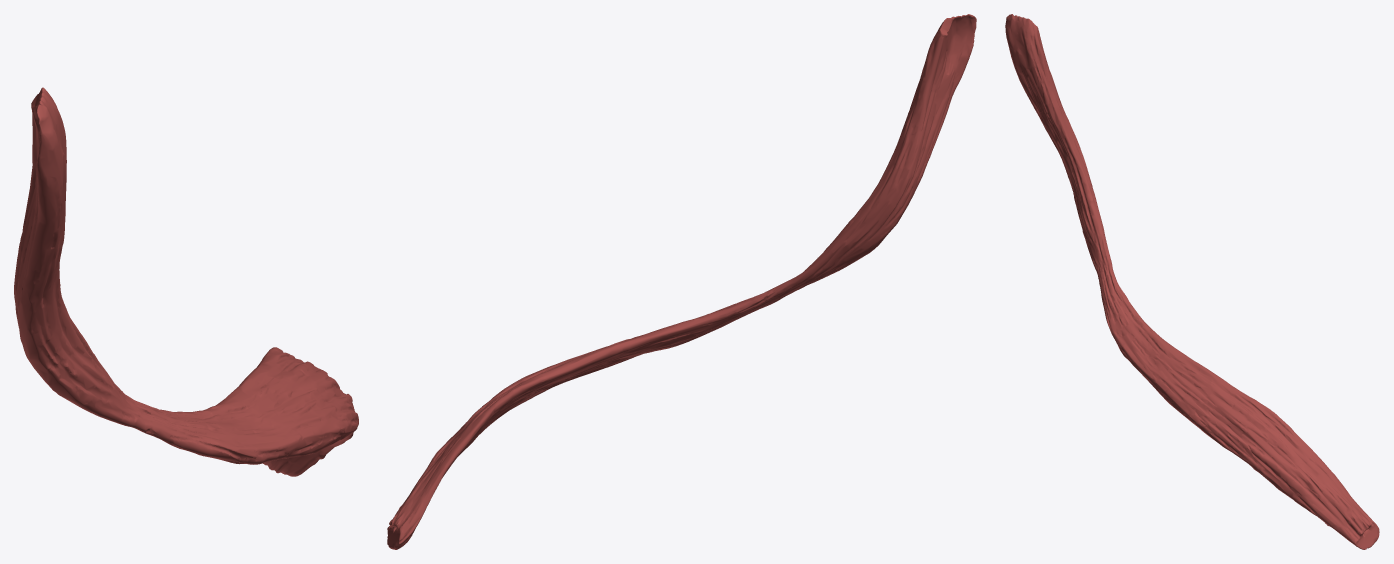
File: FMA13349.glb
3 views of the same model, side by side, from view 1: azimuth 30°, elevation 25°; view 2: azimuth 150°, elevation 25°; view 3: azimuth 270°, elevation 25° (orthographic). The views are drawn at different scales.
Visible parts, largest first — view 1: FMA13349; view 2: FMA13349; view 3: FMA13349.
Boxes of the visible parts, <box> form: FMA13349: <box>14,87,358,476</box>; FMA13349: <box>387,14,976,549</box>; FMA13349: <box>1005,14,1379,549</box>.
Size of the model in its own units: 0.0879 by 0.1031 by 0.0905.
